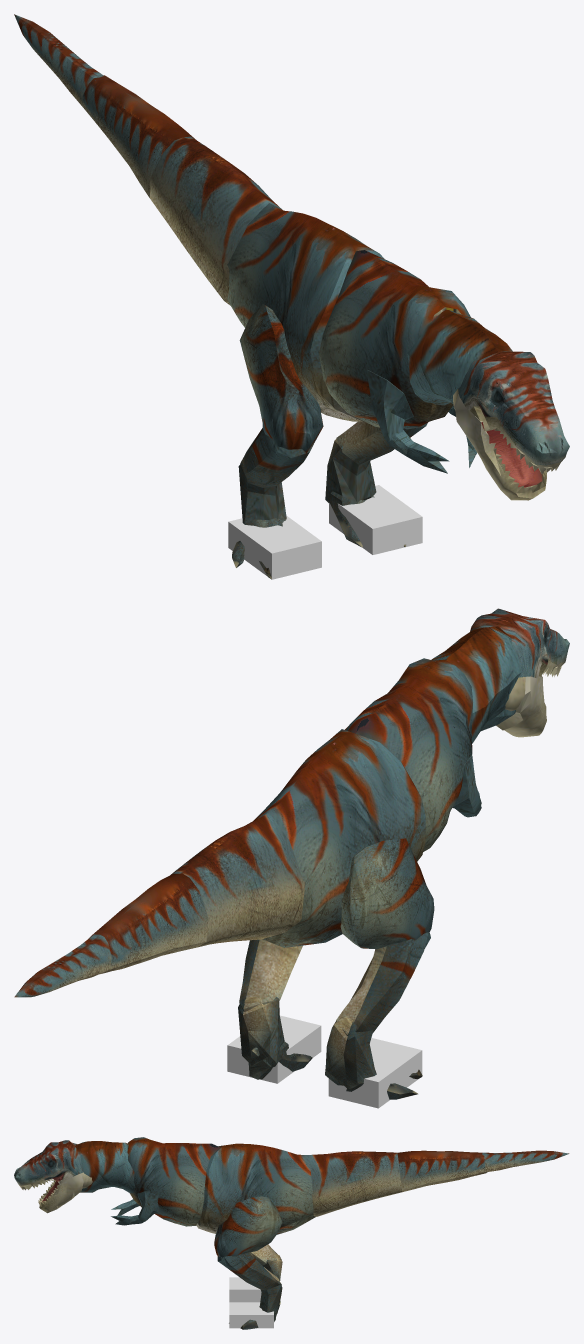
The model's file is tred.fbx.
The picture shows the model from 3 angles, top to bottom: view 1: azimuth 30°, elevation 25°; view 2: azimuth 150°, elevation 25°; view 3: azimuth 270°, elevation 25°; orthographic projection. The views are drawn at different scales.
Visible parts, largest first — view 1: pervis, torso, tail1, head, tail2 (×2), upleg, neck, Box_Hidden_07, Box_Hidden_05, jaw, lowlegr, uparmr (+3 smaller); view 2: pervis, torso, tail1, tail2 (×2), upleg, neck, lowlegr, head, Box_Hidden_07, lowlegr001, ankler003, ankler001 (+4 smaller); view 3: pervis, torso, tail1, tail2 (×2), leg_left, neck, head, lowlegr001, jaw, Box_Hidden_05, Box_Hidden_07, uparmr001 (+2 smaller).
Boxes of the visible parts, x1,y1,x2,y2 form: pervis: (227, 203, 384, 421); torso: (319, 250, 470, 428); tail1: (150, 136, 282, 305); head: (453, 351, 569, 474); tail2 (×2): (14, 14, 195, 197); upleg: (239, 304, 323, 454); neck: (407, 310, 512, 405); Box_Hidden_07: (228, 515, 321, 579); Box_Hidden_05: (329, 485, 422, 554); jaw: (454, 394, 546, 500); lowlegr: (240, 428, 314, 487); uparmr: (366, 369, 413, 441); pervis: (253, 729, 425, 947); torso: (345, 658, 472, 851); tail1: (171, 813, 305, 947); tail2 (×2): (14, 873, 208, 997); upleg: (340, 838, 434, 949); neck: (431, 626, 521, 743); lowlegr: (336, 932, 430, 1035); head: (470, 608, 569, 711); Box_Hidden_07: (328, 1038, 422, 1108); lowlegr001: (239, 939, 302, 1011); ankler003: (325, 1016, 375, 1088); ankler001: (238, 996, 279, 1067); pervis: (196, 1143, 315, 1234); torso: (127, 1137, 220, 1226); tail1: (309, 1151, 402, 1216); tail2 (×2): (397, 1150, 569, 1191); leg_left: (214, 1196, 282, 1257); neck: (75, 1141, 135, 1193); head: (14, 1140, 92, 1190); lowlegr001: (217, 1252, 281, 1290); jaw: (38, 1173, 83, 1213); Box_Hidden_05: (229, 1302, 273, 1328); Box_Hidden_07: (229, 1277, 261, 1302); uparmr001: (137, 1191, 159, 1221).
Bounding box in the file's own units: 53.02 × 284 × 95.44.
Materials: 1 (1 with a texture image).
